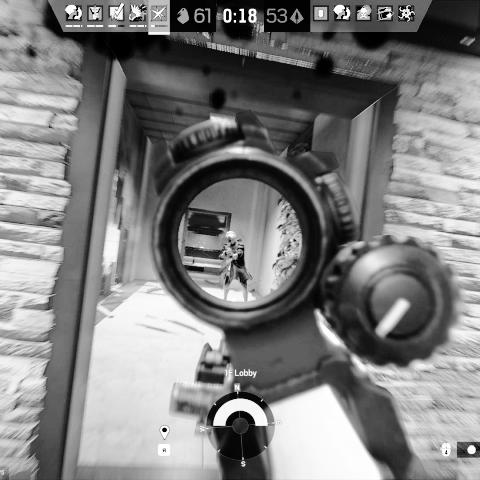Character: (218, 231, 256, 303)
Head: (225, 230, 237, 244)
